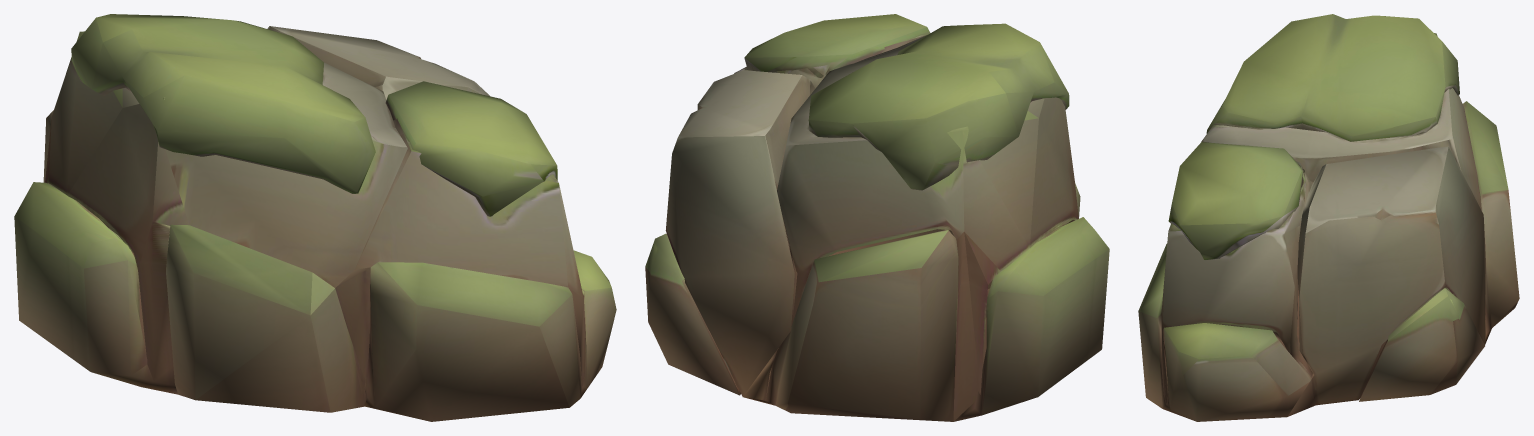
Rendered from Rock_B_LOD2.fbx.
3 views of the same model, side by side, from view 1: azimuth 30°, elevation 25°; view 2: azimuth 150°, elevation 25°; view 3: azimuth 270°, elevation 25° (orthographic). The views are drawn at different scales.
Parts seen in each view (by area): view 1: Rock_B_LOD2; view 2: Rock_B_LOD2; view 3: Rock_B_LOD2.
Part boxes in pixels (x1,y1,x2,y2): Rock_B_LOD2: [14, 14, 616, 421]; Rock_B_LOD2: [645, 14, 1109, 421]; Rock_B_LOD2: [1138, 14, 1519, 421].
Bounding box in the file's own units: 3 × 2.19 × 2.77.
